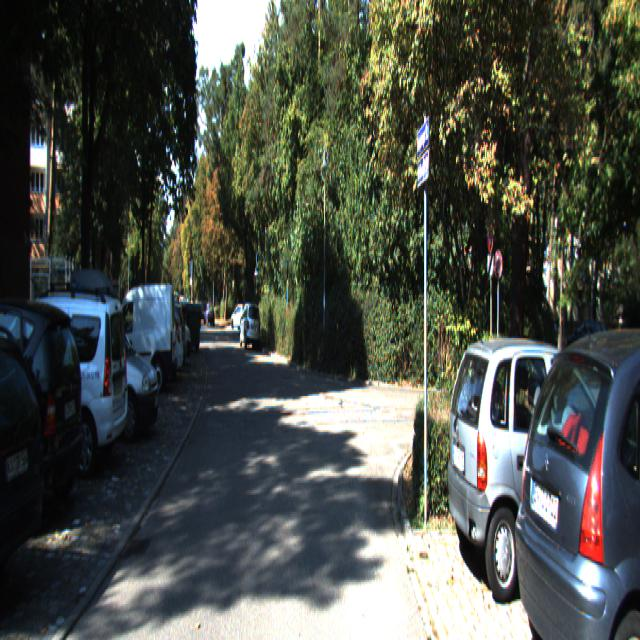Car: (444, 322, 640, 614), (510, 312, 640, 638), (0, 284, 130, 486), (46, 270, 162, 450), (0, 294, 89, 522), (0, 310, 52, 615), (94, 286, 176, 402), (239, 303, 261, 351)
